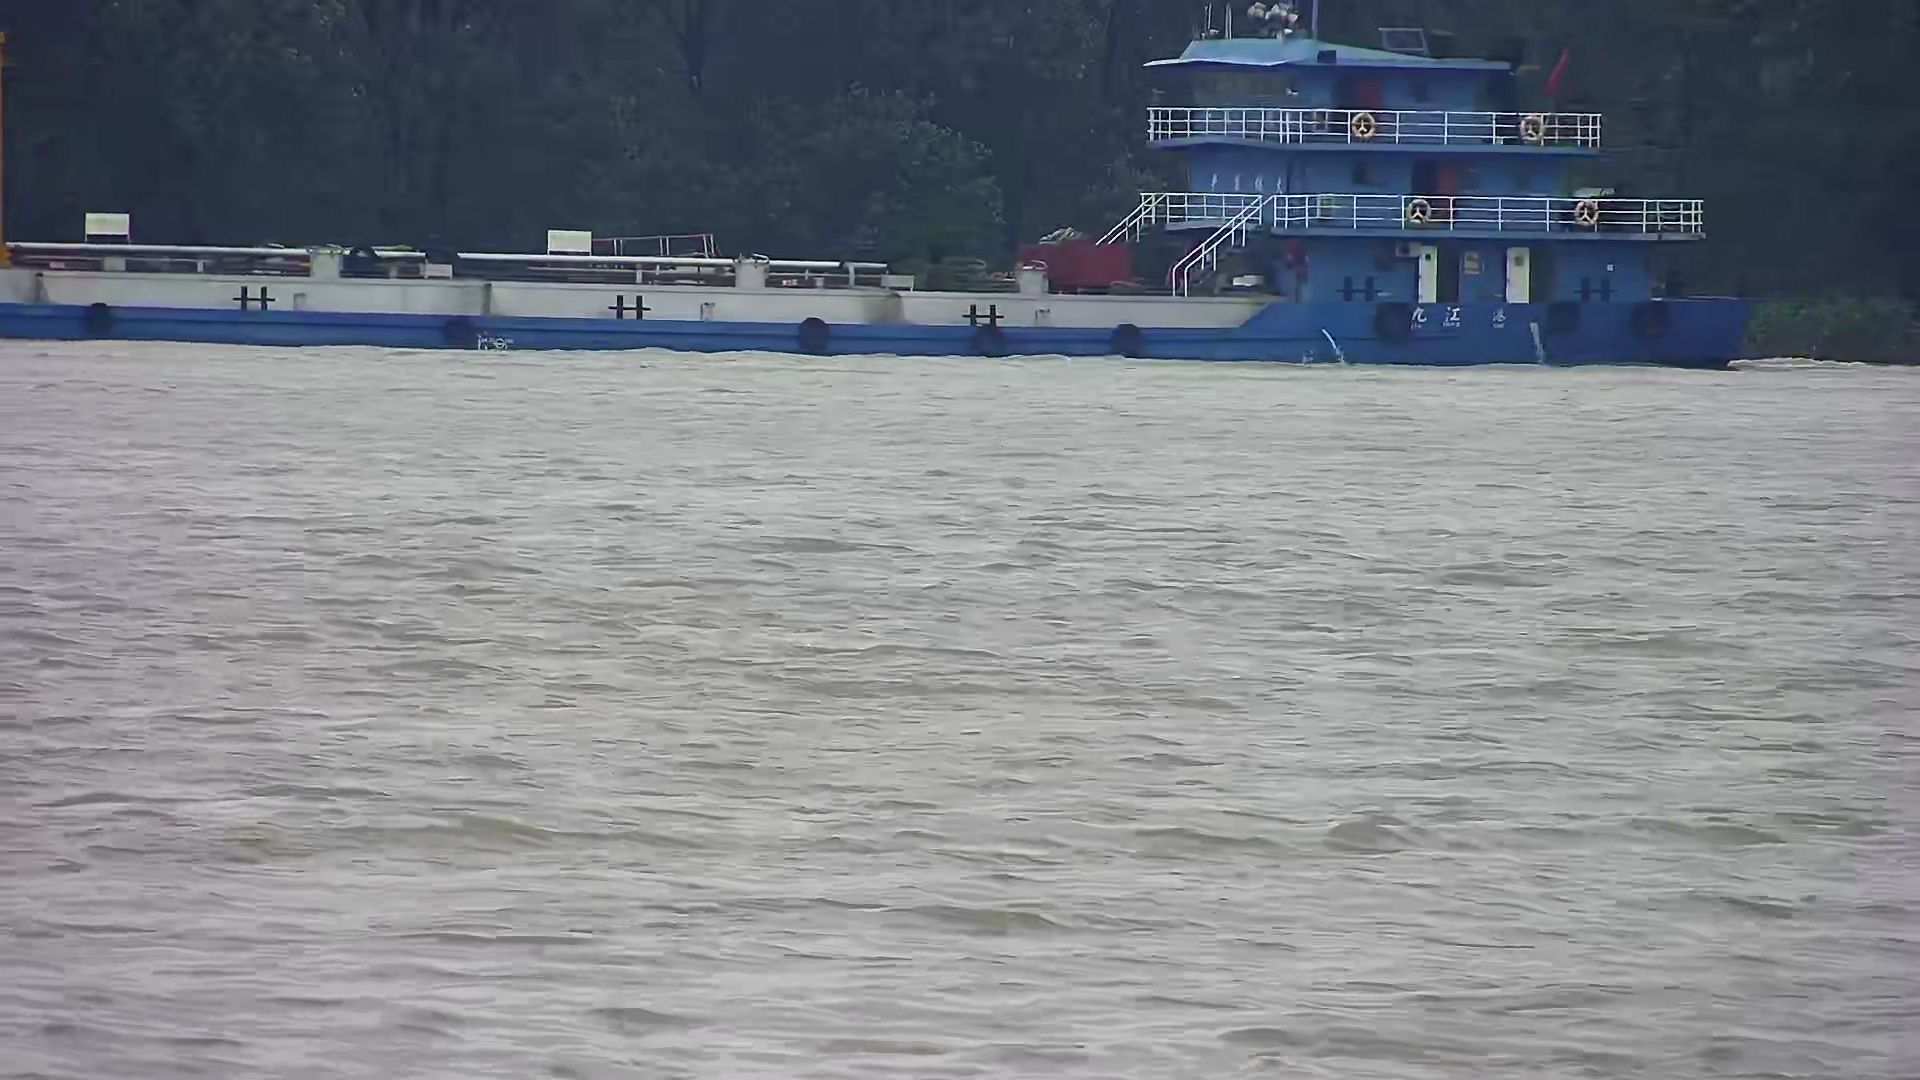ship: (1, 1, 1759, 375)
